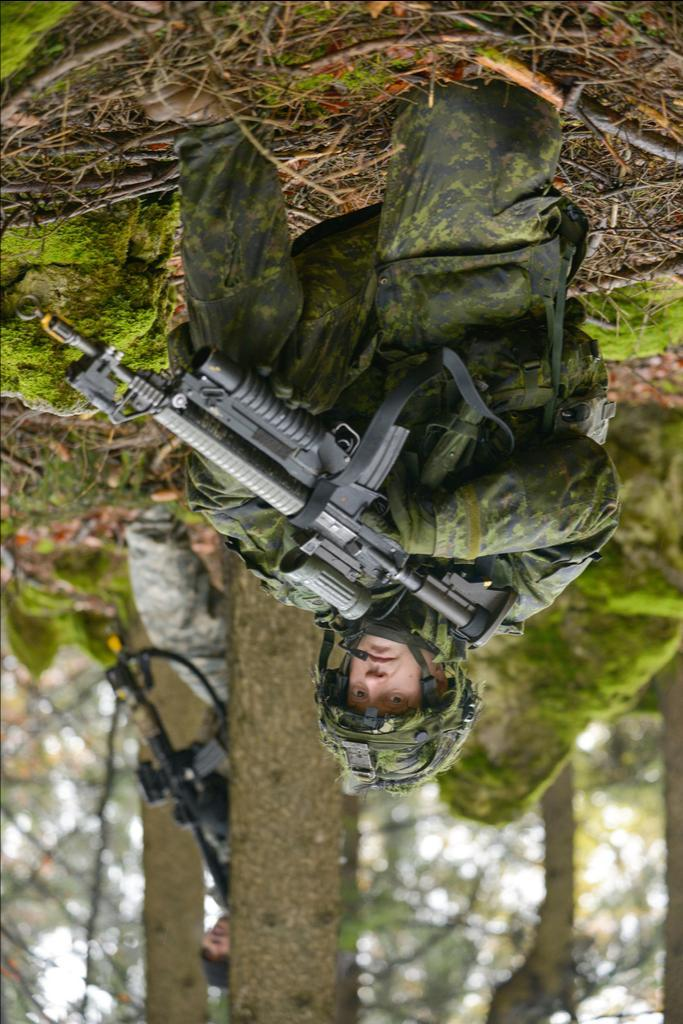gun: (35, 308, 520, 651)
